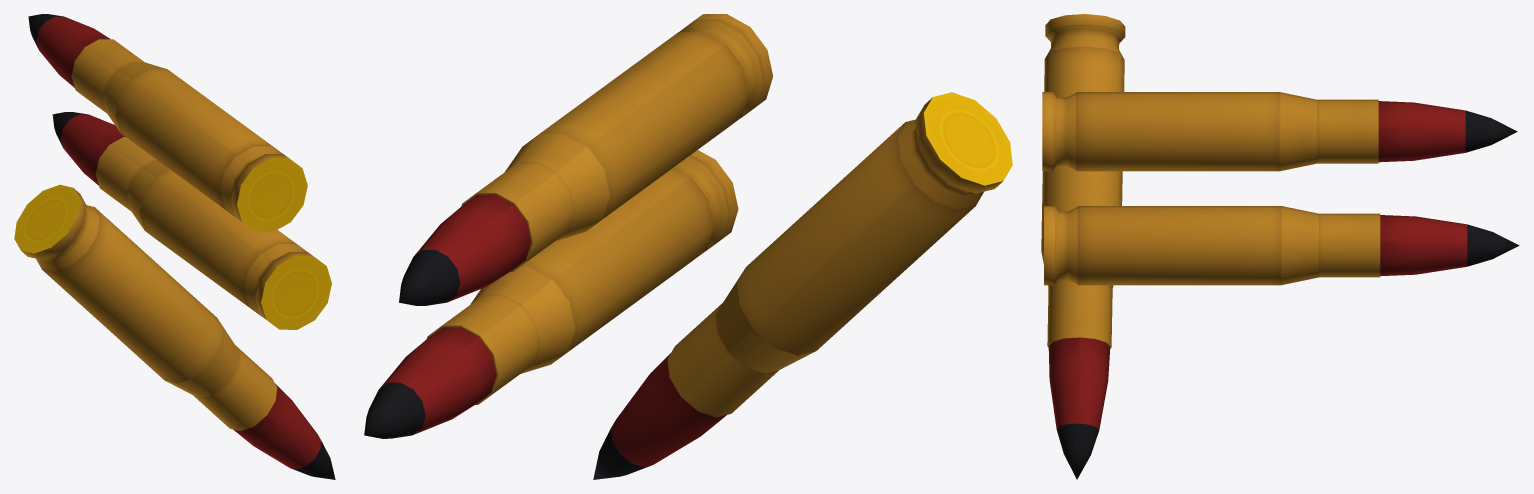
File: AT_Ammo.fbx
The picture shows the model from 3 angles, left to right: view 1: azimuth 30°, elevation 25°; view 2: azimuth 150°, elevation 25°; view 3: azimuth 270°, elevation 25°; orthographic projection. The views are drawn at different scales.
Visible parts, largest first — view 1: PTRD_Anim; view 2: PTRD_Anim; view 3: PTRD_Anim.
Boxes of the visible parts, bbox=[...] form: PTRD_Anim: bbox=[14, 14, 335, 479]; PTRD_Anim: bbox=[364, 14, 1012, 479]; PTRD_Anim: bbox=[1041, 14, 1519, 479].
Bounding box in the file's own units: 0.766 × 0.8364 × 1.05.
